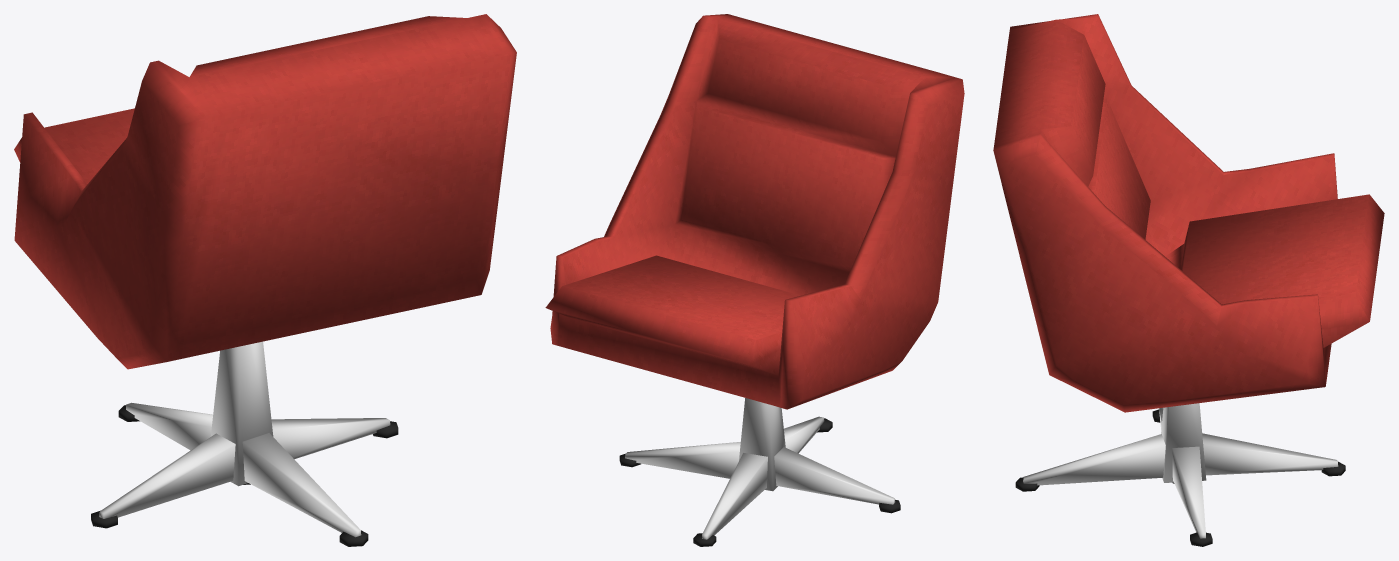
Rendered from chair_red.glb.
3 views of the same model, side by side, from view 1: azimuth 30°, elevation 25°; view 2: azimuth 150°, elevation 25°; view 3: azimuth 270°, elevation 25° (orthographic). The views are drawn at different scales.
Visible parts, largest first — view 1: Cube.010; view 2: Cube.010; view 3: Cube.010.
Part boxes in pixels (box(x1,y1,x2,y2)): Cube.010: box(14, 14, 516, 546); Cube.010: box(545, 14, 964, 546); Cube.010: box(993, 14, 1384, 546).
Bounding box in the file's own units: 0.84 × 1.12 × 0.9741.
3 materials, 1 textured.
